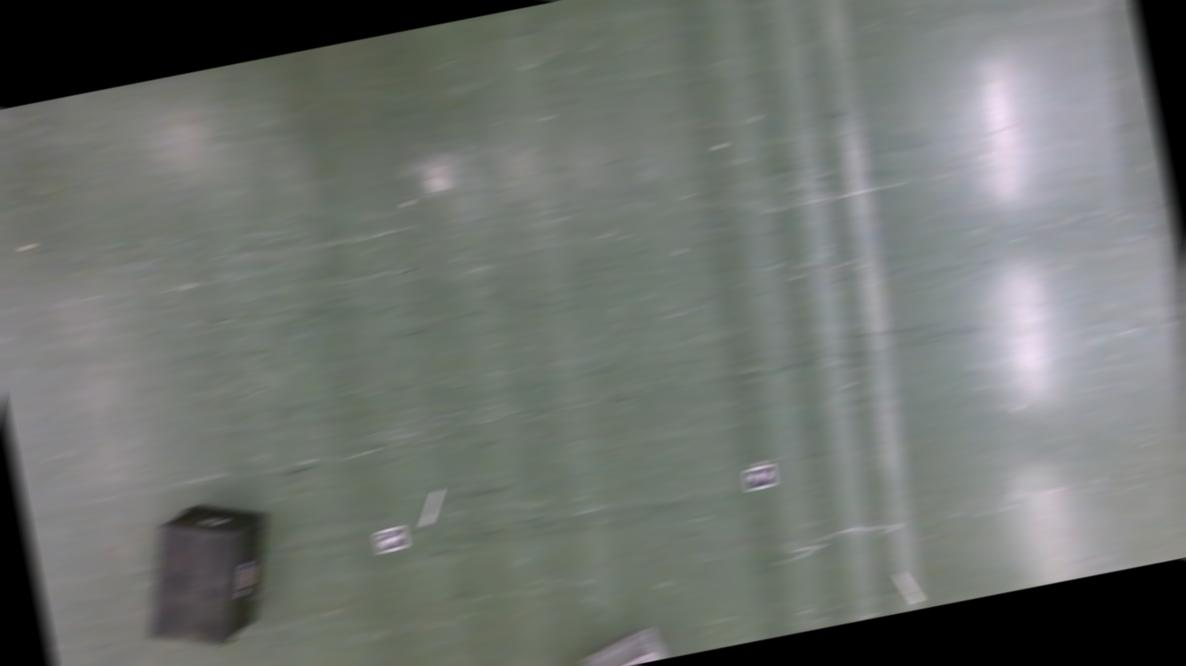probes: (416, 486, 448, 524), (897, 569, 921, 603)
rako: (126, 490, 288, 656)
